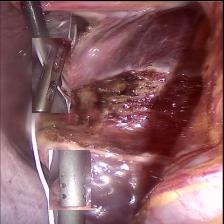Grasper: (32, 37, 71, 112)
Irrigator: (49, 149, 91, 209)
Specimen Bag: (18, 7, 90, 87)
